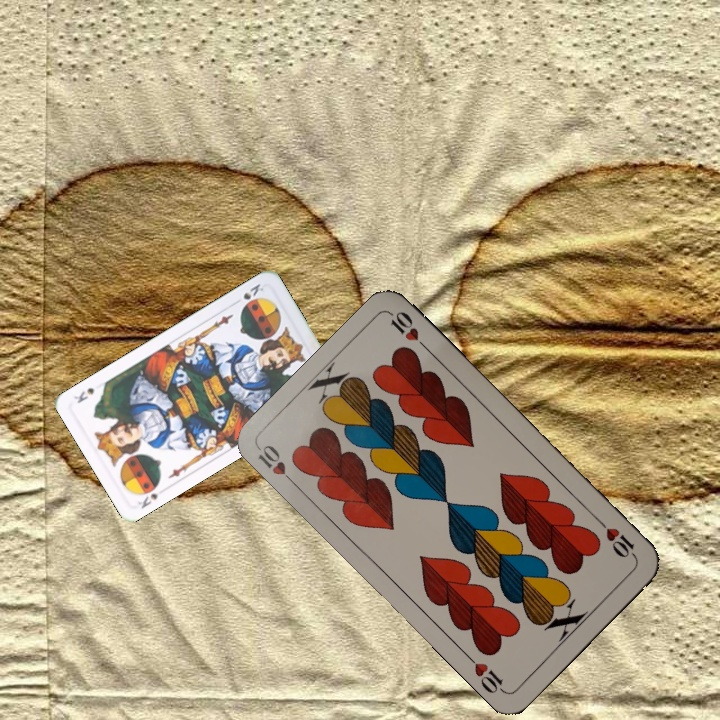H10: (254, 441, 300, 490), (593, 515, 639, 561)
SK: (230, 279, 266, 307), (134, 489, 161, 511)
